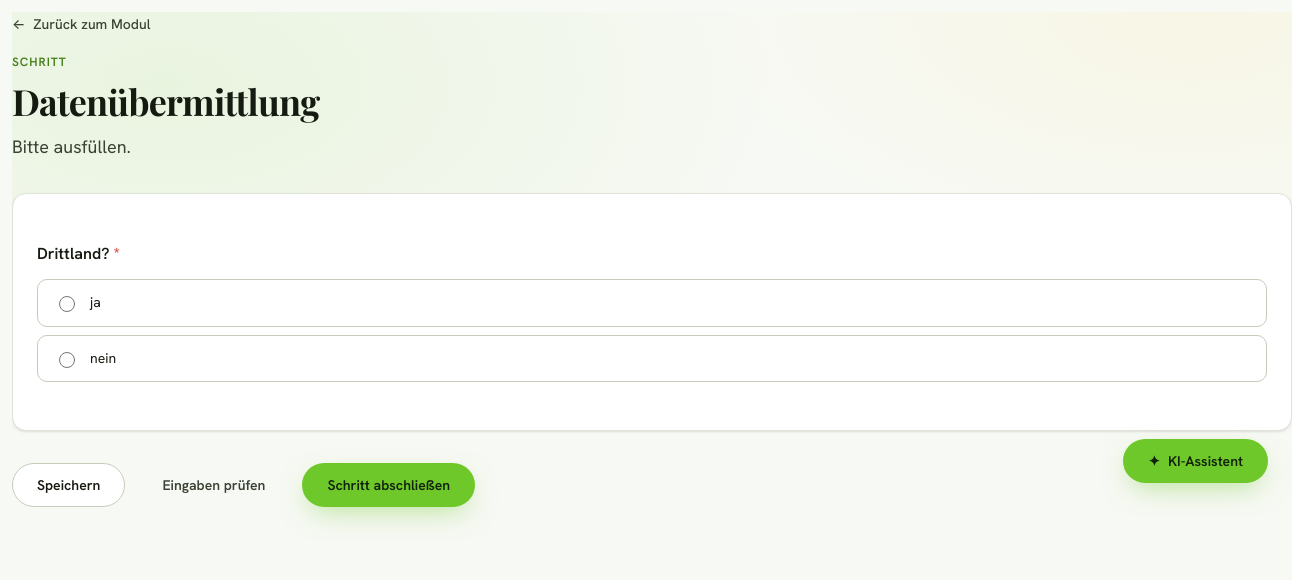
StepPage › shows a hint when complete returns 409
Expected: the text "Drittland?" is shown, left=37, top=243, right=109, bottom=264
Click the button "Schritt abschließen" at {"x": 389, "y": 486}, box left=302, top=464, right=475, bottom=508
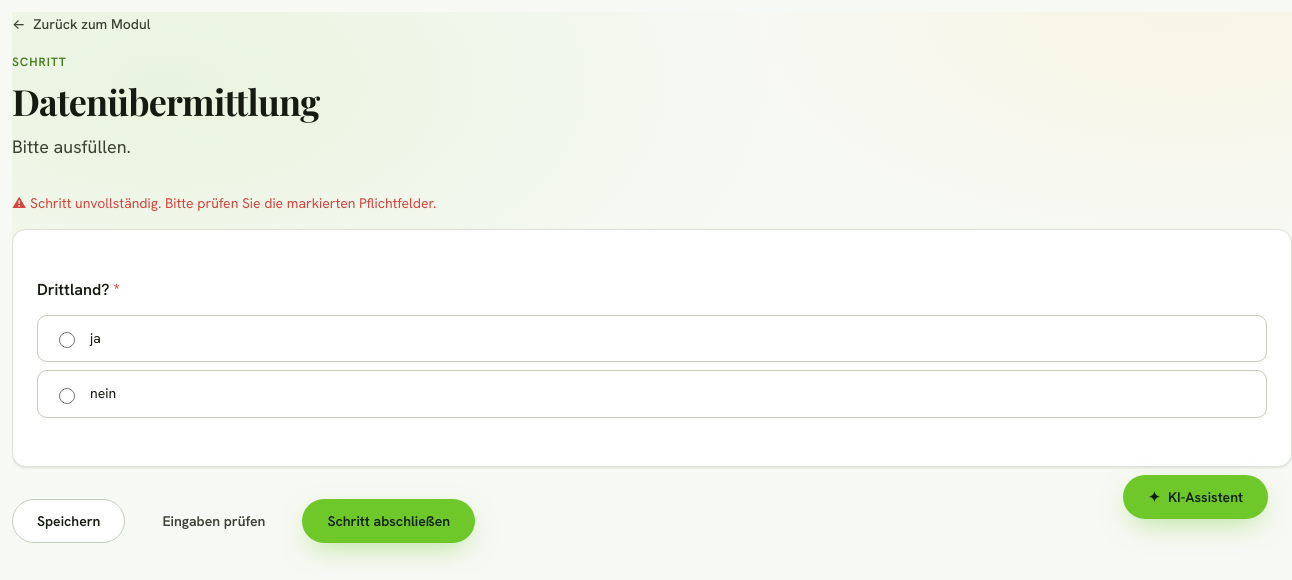
Expected: the text "⚠ Schritt unvollständig. Bitte prüfen Sie die markierten Pflichtfelder." is shown, left=12, top=194, right=436, bottom=212
